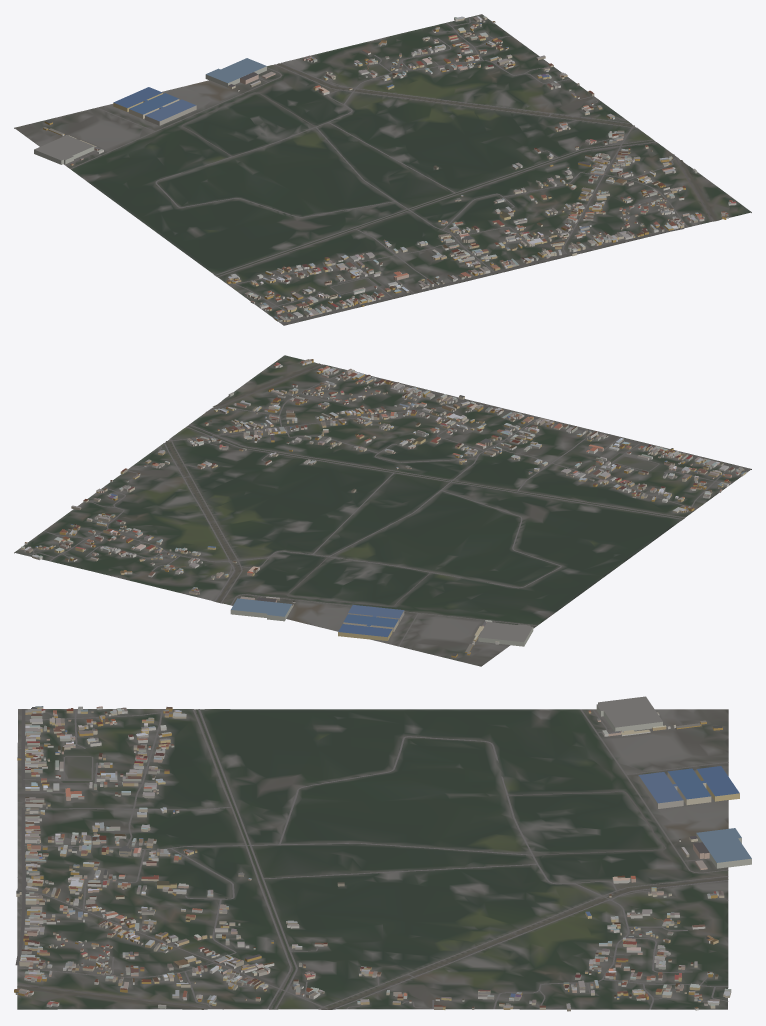
3 renders of one model, top to bottom at view 1: azimuth 30°, elevation 25°; view 2: azimuth 150°, elevation 25°; view 3: azimuth 270°, elevation 25°, orthographic. The views are drawn at different scales.
Parts seen in each view (by area): view 1: ground, buildings, roads, water; view 2: ground, buildings, roads, water; view 3: ground, buildings, roads, water.
Part boxes in pixels (x1,y1,x2,y2): ground: (14, 14, 751, 325); buildings: (34, 16, 736, 322); roads: (65, 17, 711, 324); water: (216, 63, 717, 276); ground: (14, 355, 751, 666); buildings: (20, 359, 746, 657); roads: (26, 364, 749, 646); water: (166, 363, 683, 602); ground: (17, 709, 728, 1009); buildings: (14, 696, 751, 1011); roads: (15, 709, 728, 1009); water: (17, 709, 728, 1009).
Bounding box in the file's own units: 1441 × 17.1 × 1454.
